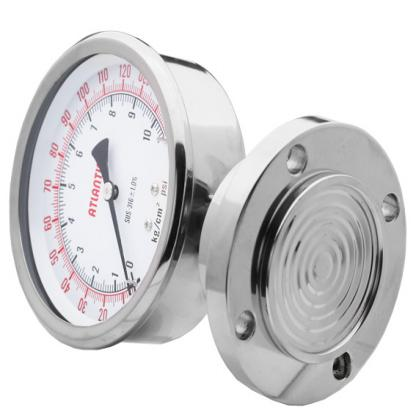needle: (108, 199, 131, 296)
